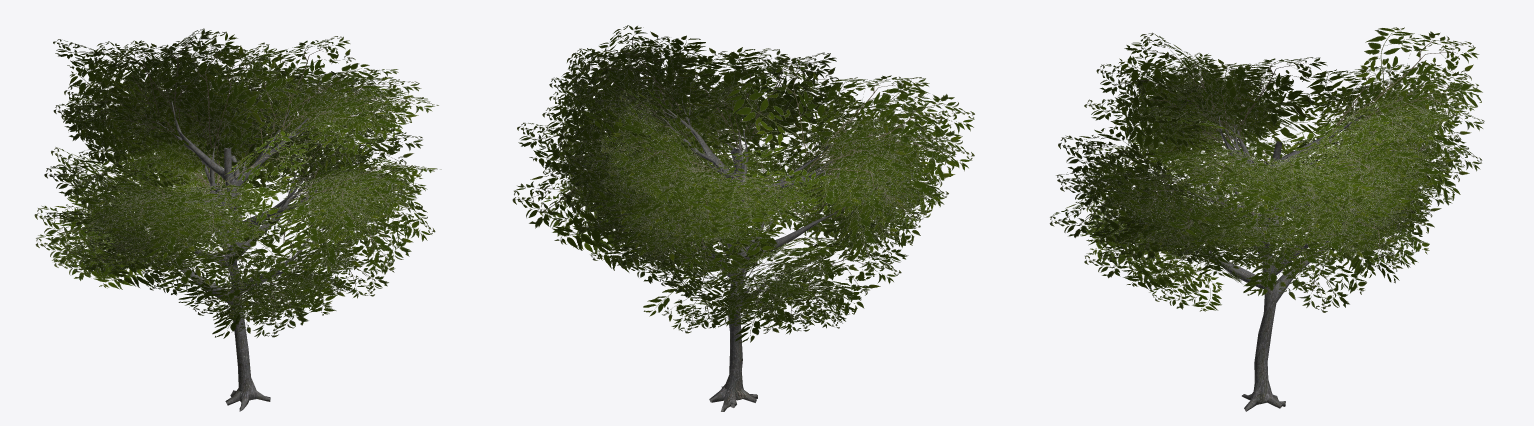
The model's file is TreeHighQuality.fbx.
3 renders of one model, left to right at view 1: azimuth 30°, elevation 25°; view 2: azimuth 150°, elevation 25°; view 3: azimuth 270°, elevation 25°, orthographic. The views are drawn at different scales.
Parts seen in each view (by area): view 1: TreeHighQuality; view 2: TreeHighQuality; view 3: TreeHighQuality.
Part boxes in pixels (bbox=[...]): TreeHighQuality: bbox=[34, 28, 441, 411]; TreeHighQuality: bbox=[512, 25, 974, 411]; TreeHighQuality: bbox=[1049, 27, 1484, 411].
Bounding box in the file's own units: 1713 × 1675 × 1298.
